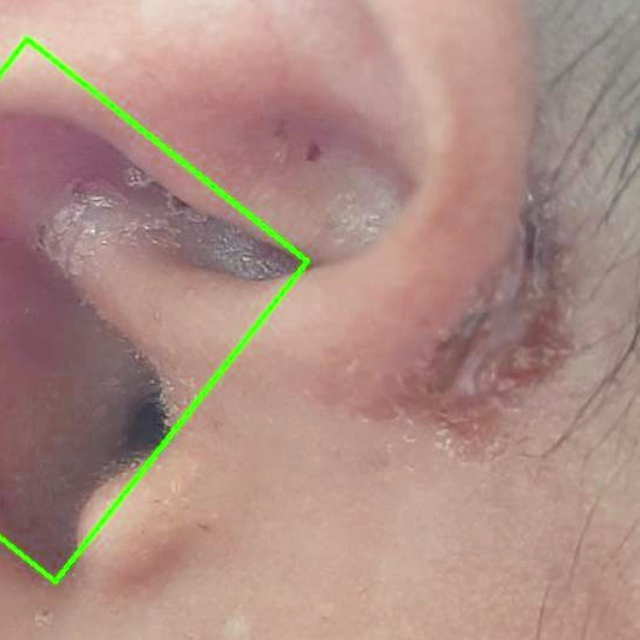Eczema: (0, 40, 345, 624)
